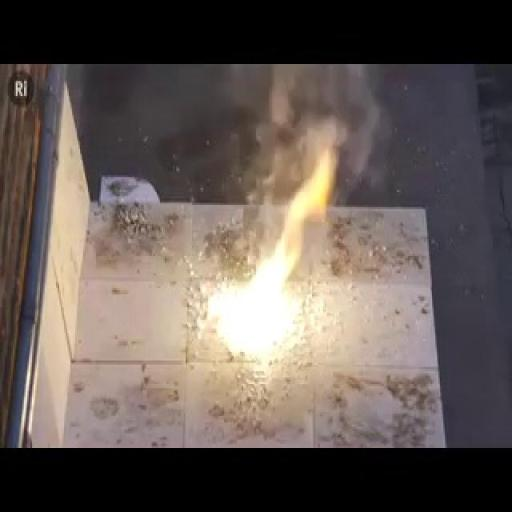smoke: (214, 192, 312, 367)
